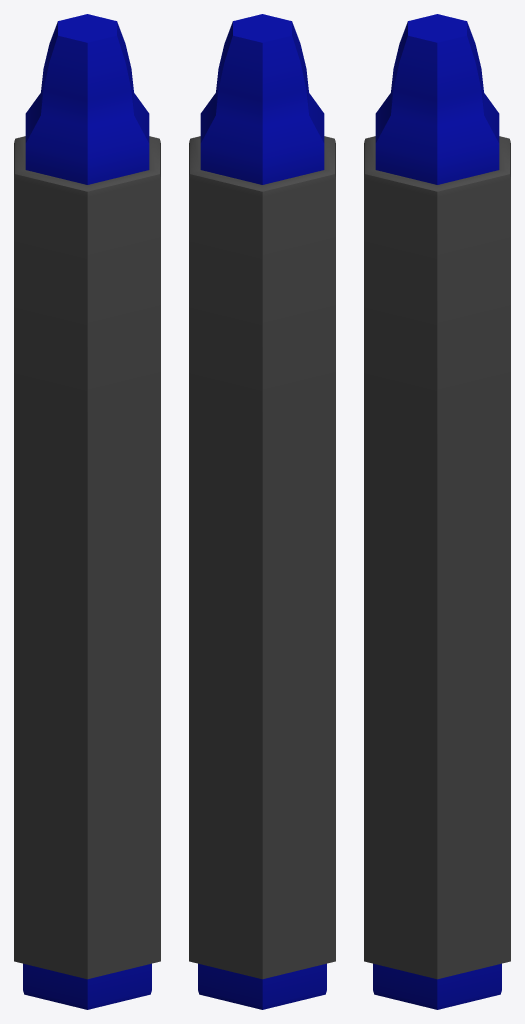
The model's file is Marker.FBX.
3 renders of one model, left to right at view 1: azimuth 30°, elevation 25°; view 2: azimuth 150°, elevation 25°; view 3: azimuth 270°, elevation 25°, orthographic.
Visible parts, largest first — view 1: Cylinder001; view 2: Cylinder001; view 3: Cylinder001.
Part boxes in pixels (x1=…): Cylinder001: x1=14, y1=14, x2=160, y2=1009; Cylinder001: x1=189, y1=14, x2=335, y2=1009; Cylinder001: x1=364, y1=14, x2=510, y2=1009.
Size of the model in its own units: 28.77 by 178 by 24.92.
